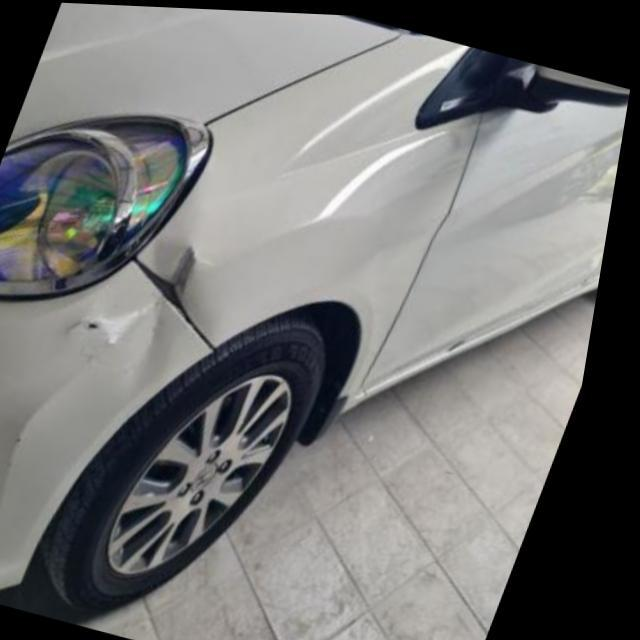dent: (57, 227, 226, 410)
